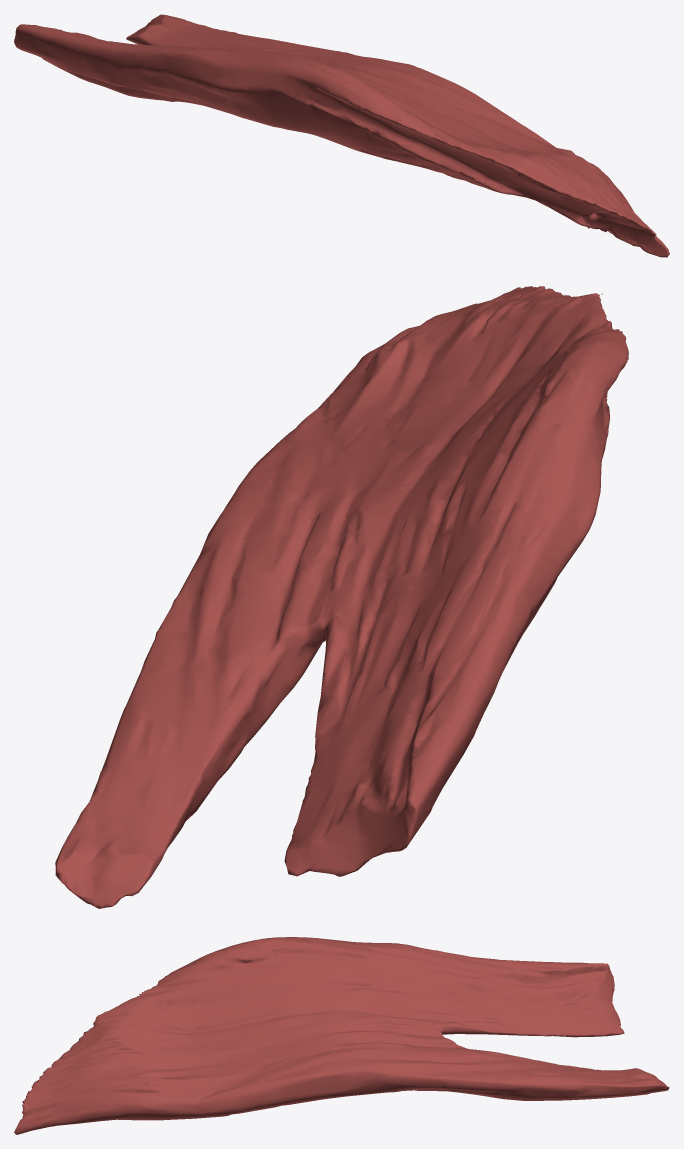
File: FMA37466.glb
3 views of the same model, one above another, from view 1: azimuth 30°, elevation 25°; view 2: azimuth 150°, elevation 25°; view 3: azimuth 270°, elevation 25° (orthographic). The views are drawn at different scales.
Visible parts, largest first — view 1: FMA37466; view 2: FMA37466; view 3: FMA37466.
Part boxes in pixels (x1,y1,x2,y2): FMA37466: (14, 14, 669, 257); FMA37466: (55, 286, 628, 908); FMA37466: (14, 937, 669, 1134).
Bounding box in the file's own units: 0.0345 × 0.0165 × 0.0741.
